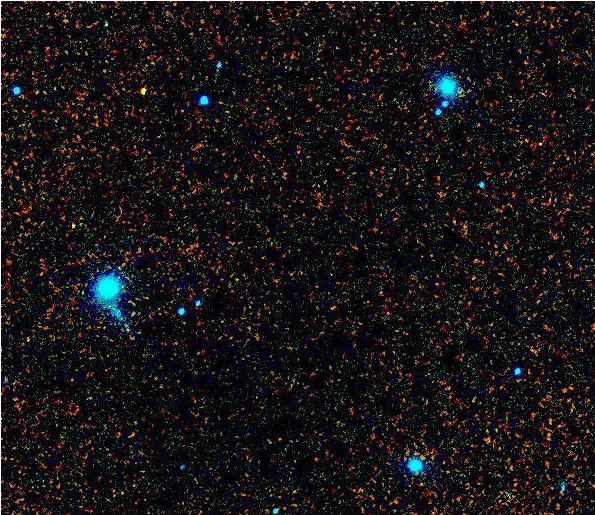star: (128, 77, 158, 107)
